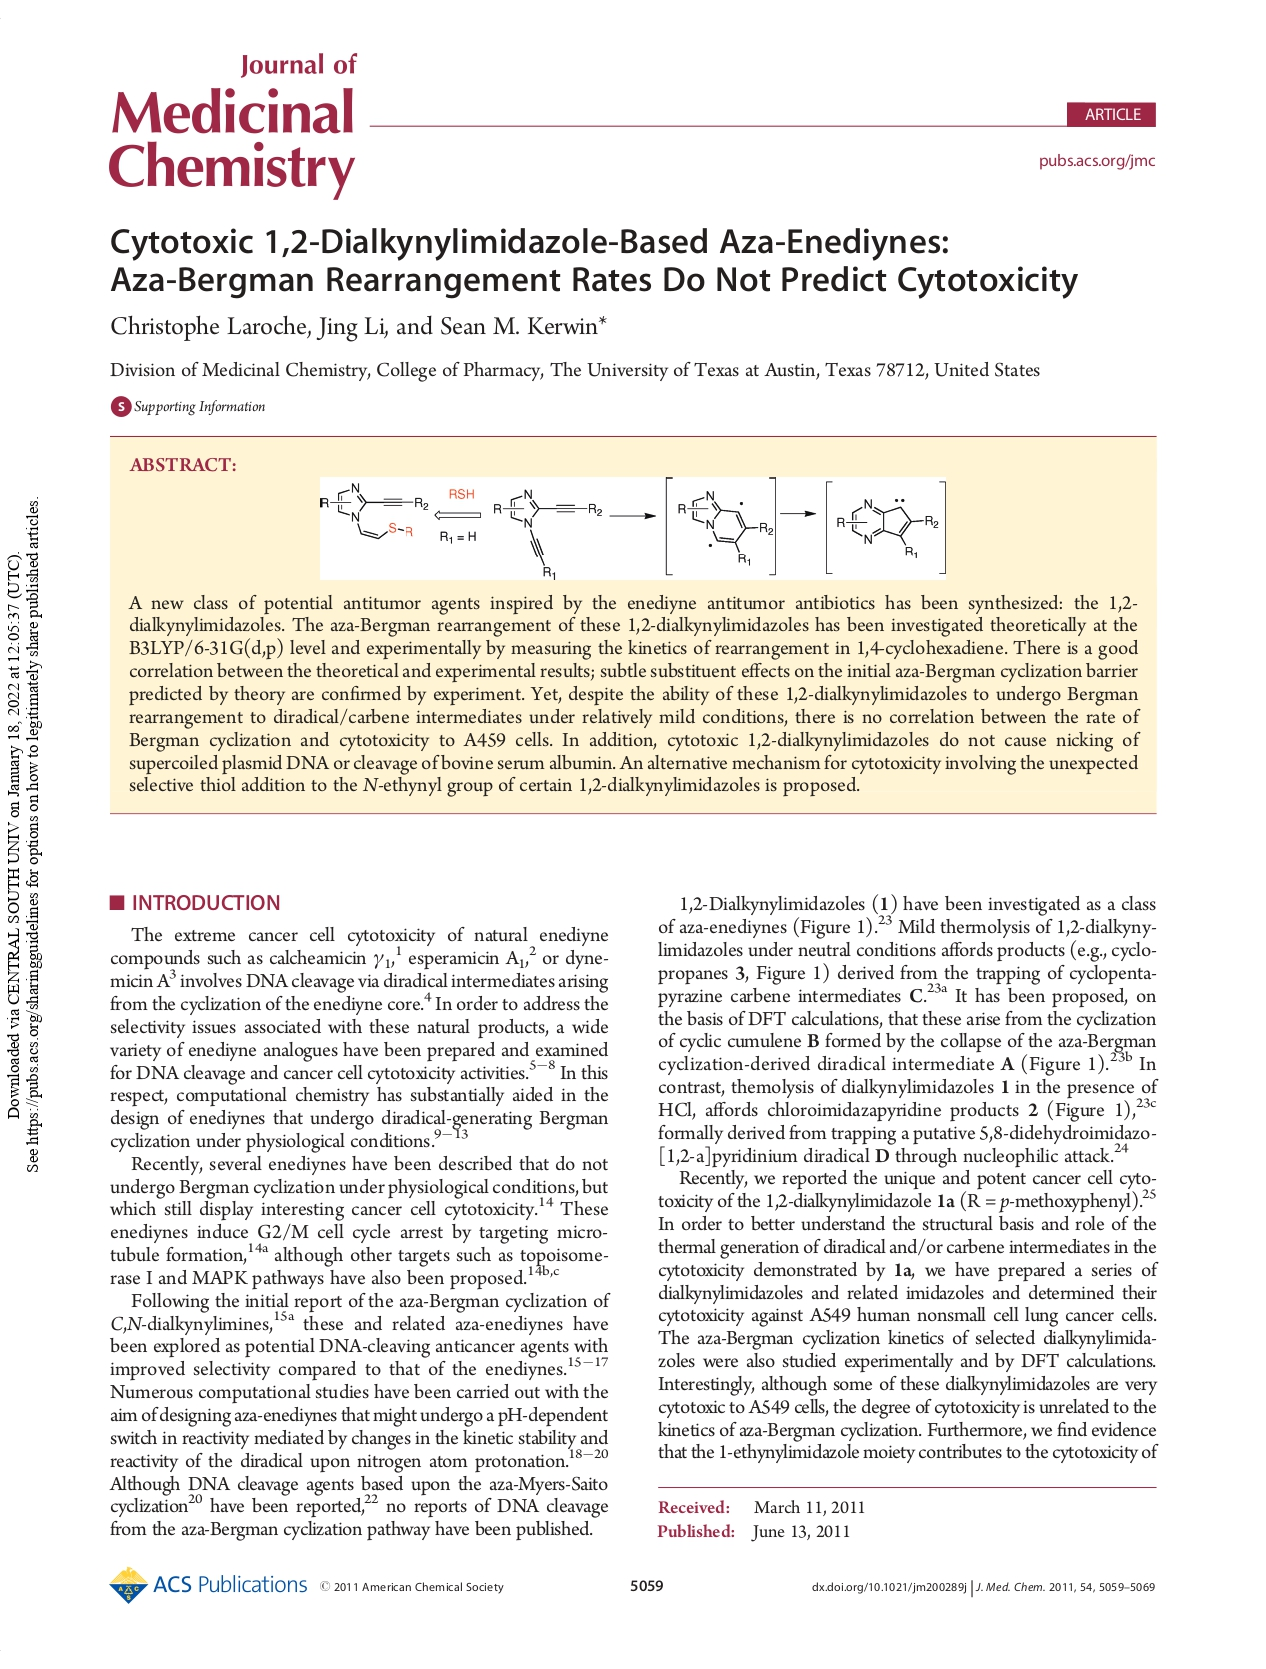exist_molecular: (489, 484, 604, 581), (676, 485, 774, 568), (835, 496, 940, 560), (318, 481, 431, 540)
